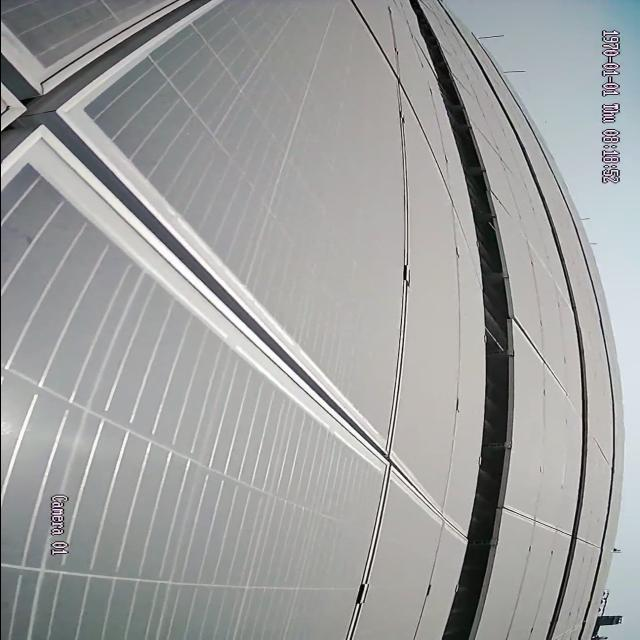interior panel: (0, 1, 458, 640), (519, 323, 571, 406), (505, 506, 569, 538)
outher panel: (408, 0, 512, 639)
